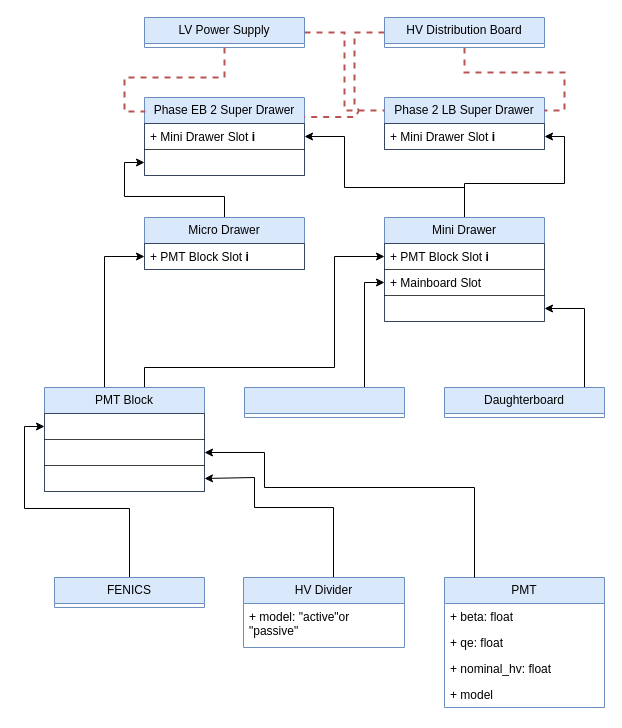
Image size: 622x728. Some labels were removed from this diagram. Here are the shapes that lost their labels. From the top down, the centre of each, then its label:
At (224,162): "+ Micro Darwer Slot i".
At (464,308): "+ Daughterboard Slot".
At (324,402): "Mainboard".
At (124,426): "+ Electronics Slot".
At (124,452): "+ PMT Slot".
At (124,478): "+ HV Divider Slot".
